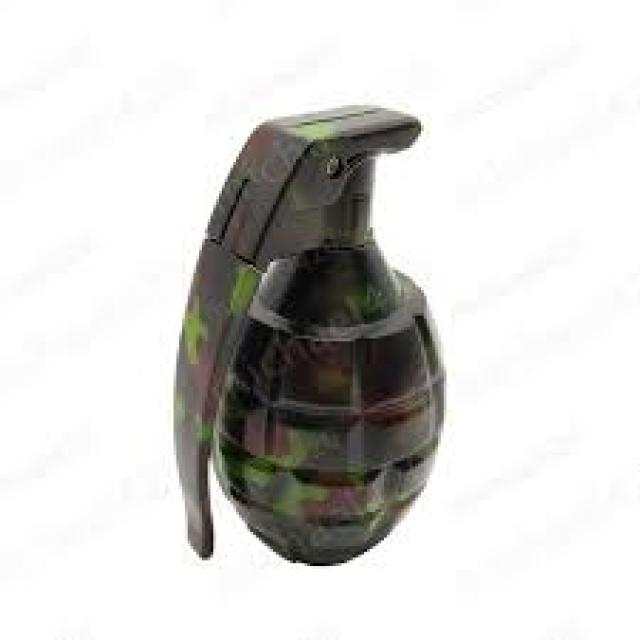grenade: (162, 95, 458, 577)
